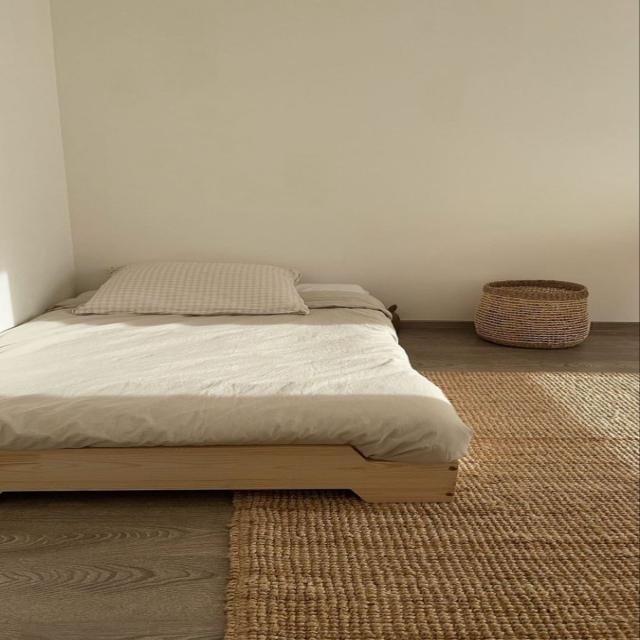obstacle: (0, 282, 473, 503)
